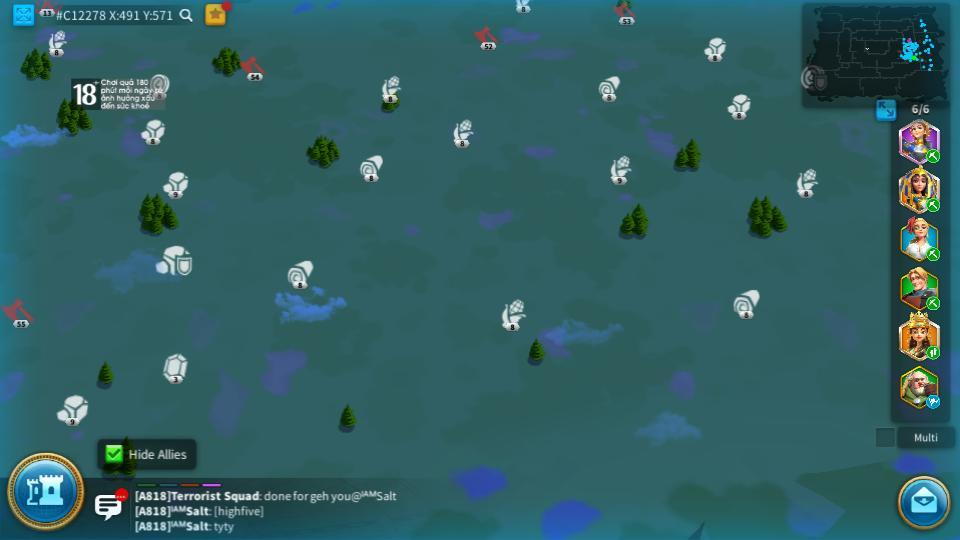gem-z-out: (160, 354, 189, 383)
march_farming: (924, 250, 939, 261)
march_idle: (925, 396, 942, 408)
march_marching: (925, 197, 941, 212), (925, 345, 941, 359), (925, 150, 941, 162), (925, 297, 942, 308)
